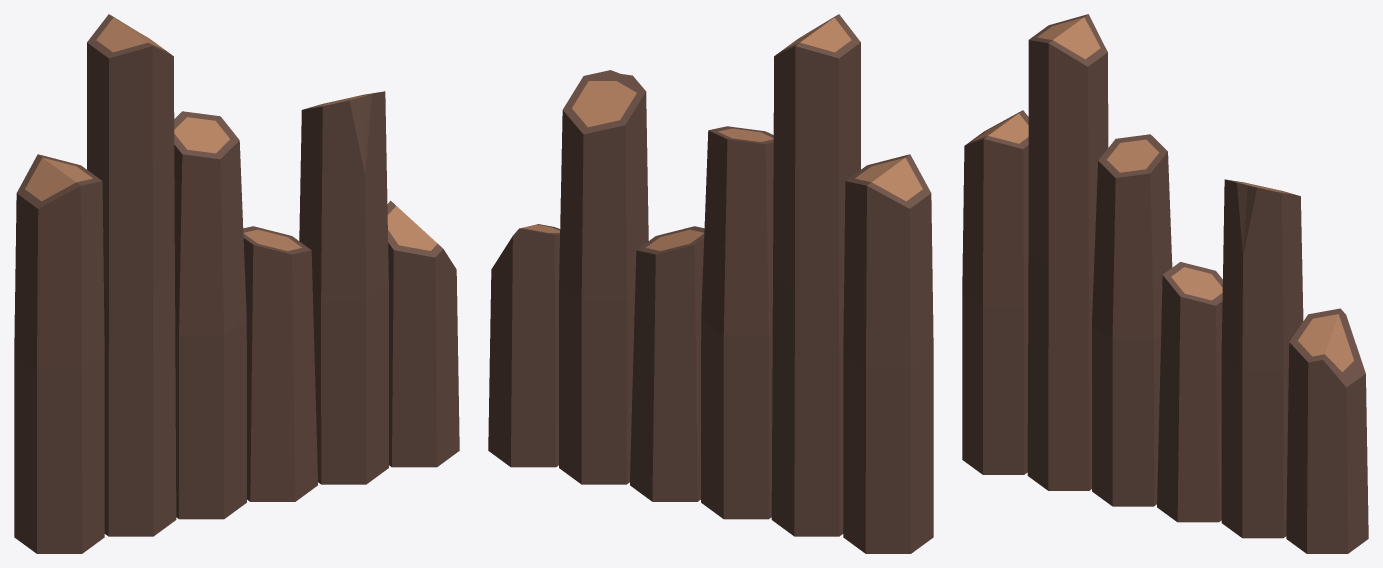
File: TrunkFence_01.fbx
The picture shows the model from 3 angles, left to right: view 1: azimuth 30°, elevation 25°; view 2: azimuth 150°, elevation 25°; view 3: azimuth 330°, elevation 25°; orthographic projection. The views are drawn at different scales.
Visible parts, largest first — view 1: TrunkFence_01; view 2: TrunkFence_01; view 3: TrunkFence_01.
Boxes of the visible parts, <box> form: TrunkFence_01: <box>14,14,459,553</box>; TrunkFence_01: <box>488,14,933,553</box>; TrunkFence_01: <box>962,14,1368,553</box>.
Bounding box in the file's own units: 288 × 319 × 53.34.
